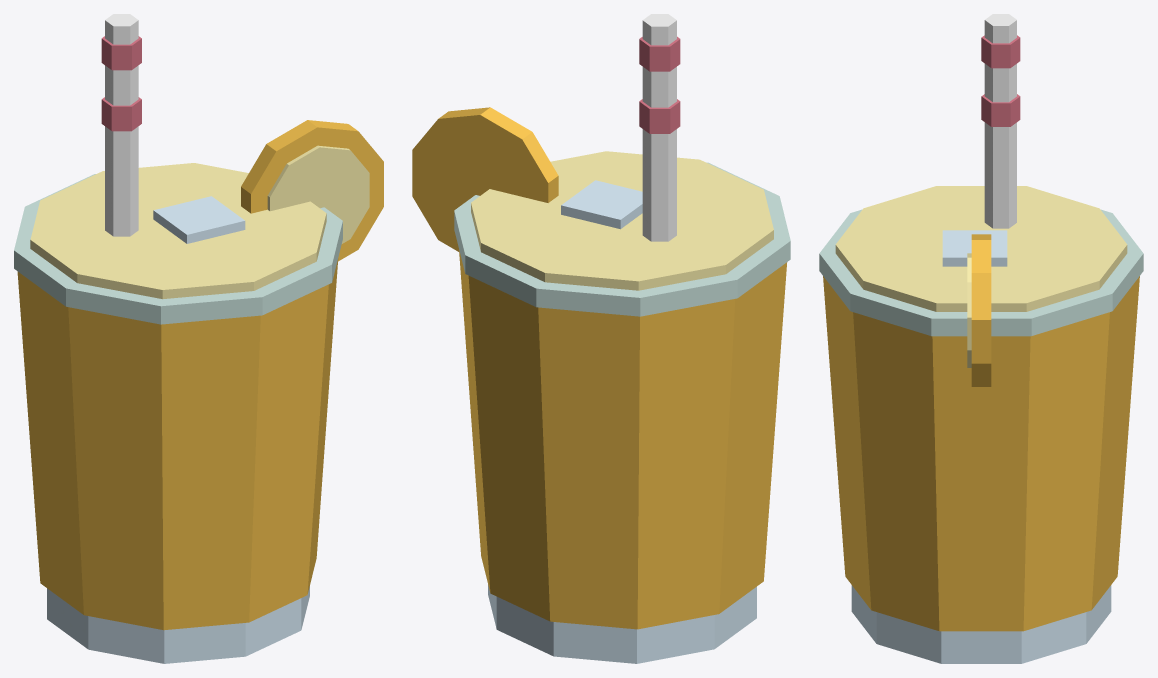
Rendered from CatCafe_Prop_PicnicLemonade.glb.
The picture shows the model from 3 angles, left to right: view 1: azimuth 30°, elevation 25°; view 2: azimuth 150°, elevation 25°; view 3: azimuth 270°, elevation 25°; orthographic projection. The views are drawn at different scales.
Parts seen in each view (by area): view 1: CatCafe_Prop_PicnicLemonade; view 2: CatCafe_Prop_PicnicLemonade; view 3: CatCafe_Prop_PicnicLemonade.
Part boxes in pixels (left/top/right/bottom): CatCafe_Prop_PicnicLemonade: left=14, top=14, right=383, bottom=663; CatCafe_Prop_PicnicLemonade: left=412, top=14, right=790, bottom=663; CatCafe_Prop_PicnicLemonade: left=819, top=14, right=1143, bottom=663.
Bounding box in the file's own units: 0.5819 × 0.97 × 0.5.
Materials: 1 (1 with a texture image).
